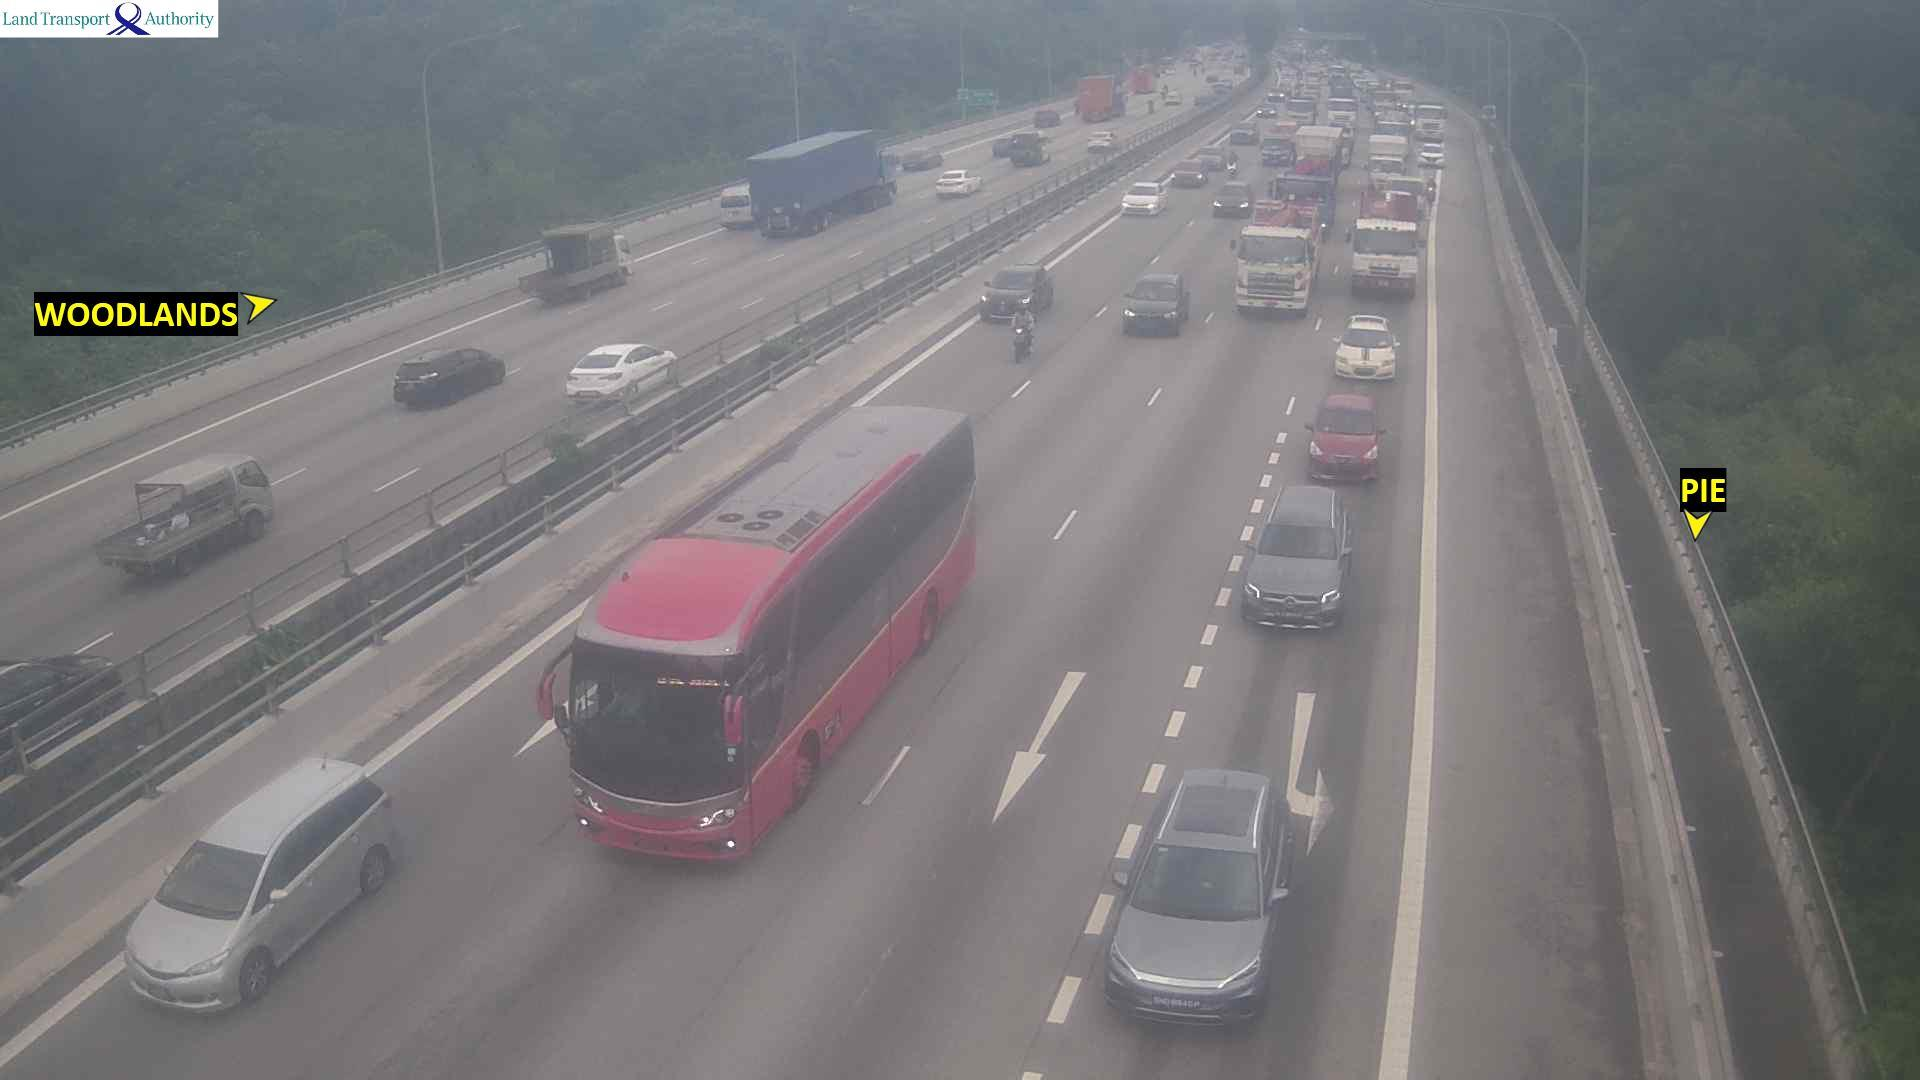incoming: (525, 632, 768, 864), (1096, 842, 1302, 1030), (117, 832, 295, 1028), (1237, 518, 1357, 640), (1225, 230, 1318, 312), (1299, 405, 1391, 486), (1338, 223, 1428, 305), (1326, 330, 1406, 383), (1116, 278, 1186, 338), (977, 268, 1038, 325), (1114, 187, 1169, 215), (1413, 106, 1450, 144), (1213, 185, 1251, 216), (1257, 135, 1290, 169), (1325, 99, 1359, 129), (1170, 162, 1206, 189), (1416, 146, 1449, 169), (1231, 120, 1259, 146), (1256, 105, 1279, 119), (1226, 161, 1237, 176)
